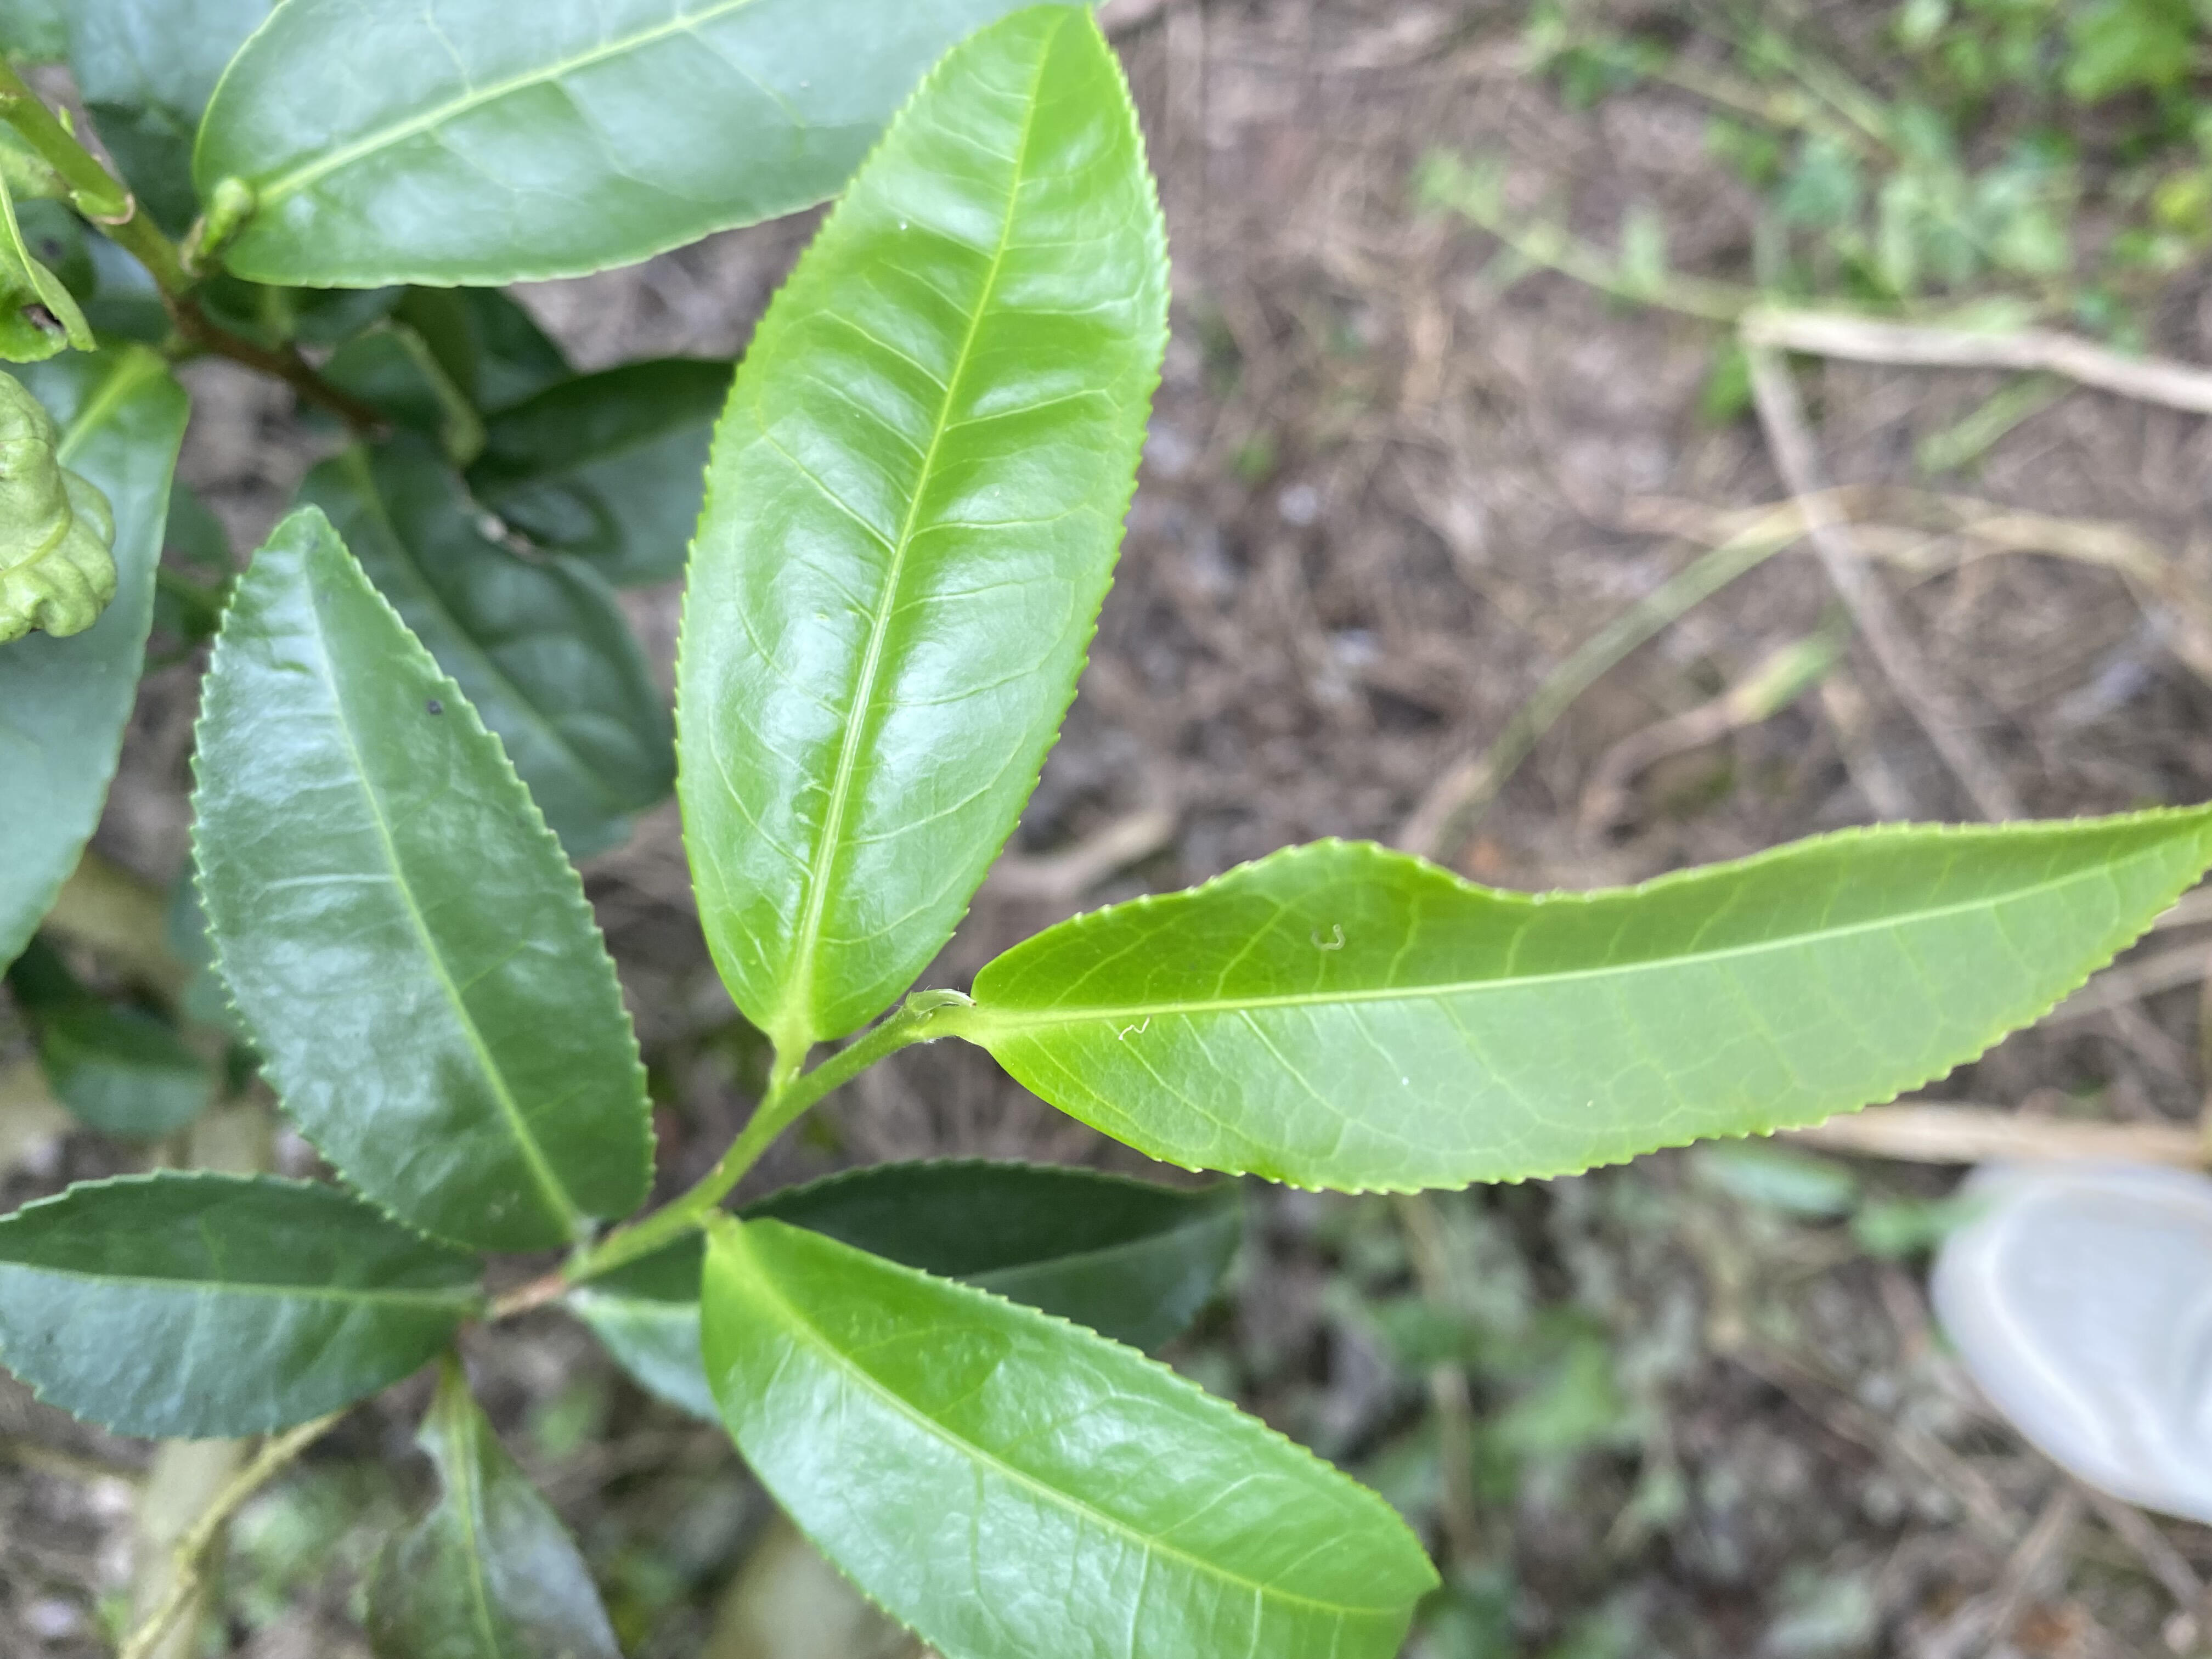healthy: (672, 7, 1172, 1046), (975, 802, 2209, 1199), (183, 498, 660, 1255), (697, 1216, 1440, 1659), (188, 3, 998, 281), (3, 1171, 491, 1443)
